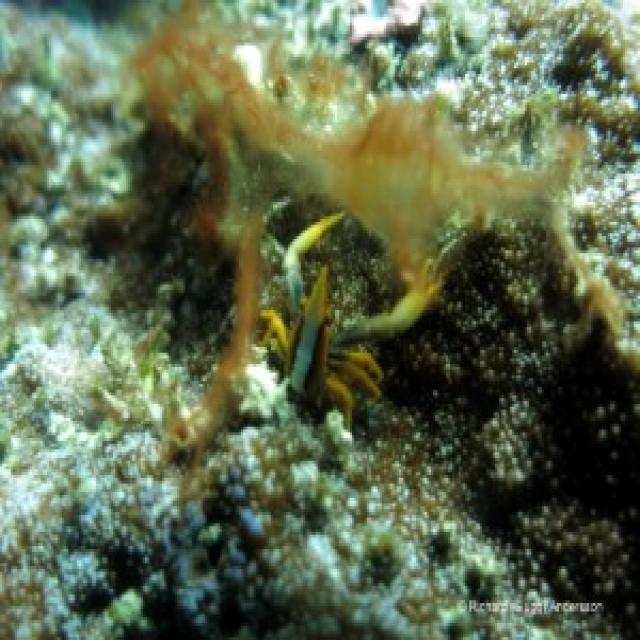lobsters: (207, 156, 496, 496)
